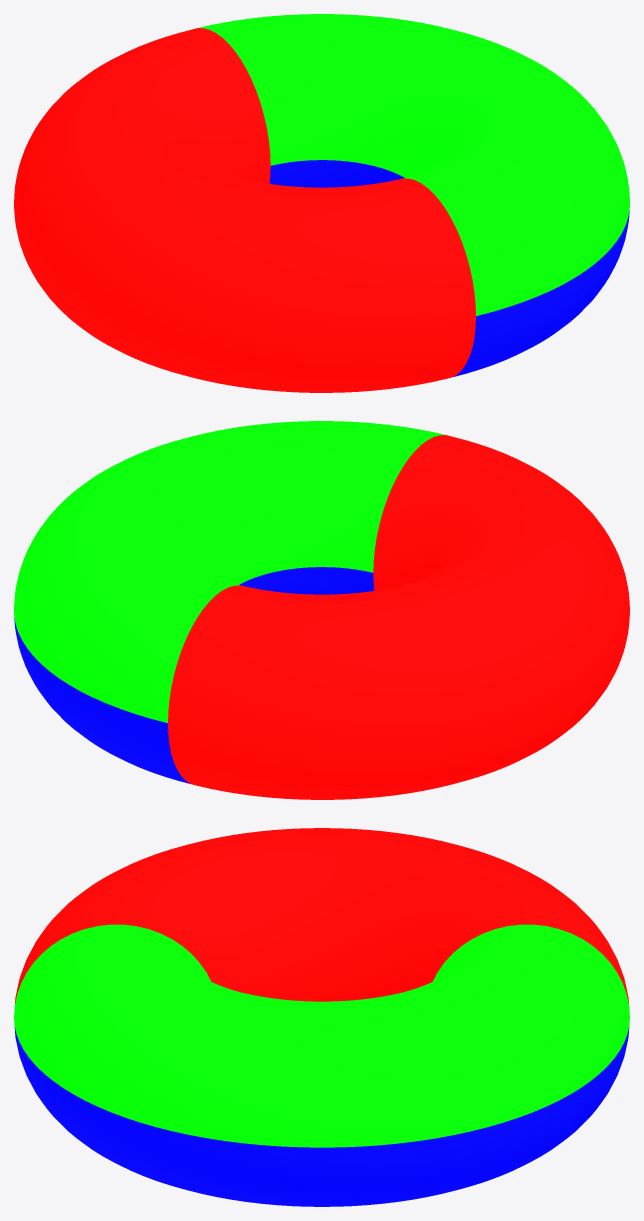
Rendered from Torus Scatterable.fbx.
3 renders of one model, top to bottom at view 1: azimuth 30°, elevation 25°; view 2: azimuth 150°, elevation 25°; view 3: azimuth 270°, elevation 25°, orthographic.
Visible parts, largest first — view 1: torus; view 2: torus; view 3: torus.
Part boxes in pixels (x1=…): torus: x1=14, y1=14, x2=629, y2=392; torus: x1=14, y1=421, x2=629, y2=799; torus: x1=14, y1=828, x2=629, y2=1206.
Size of the model in its own units: 3 by 0.998 by 3.
